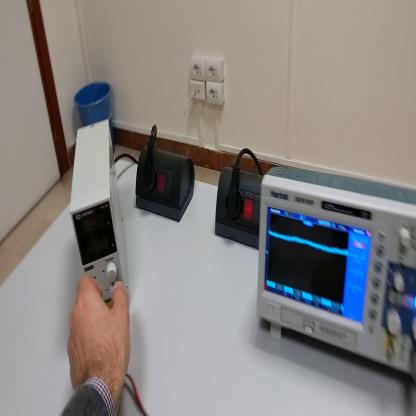hand: (67, 274, 131, 408)
oscilloscope: (257, 164, 416, 379)
power supply: (69, 118, 128, 301)
socket: (137, 144, 196, 223), (215, 164, 264, 249)
